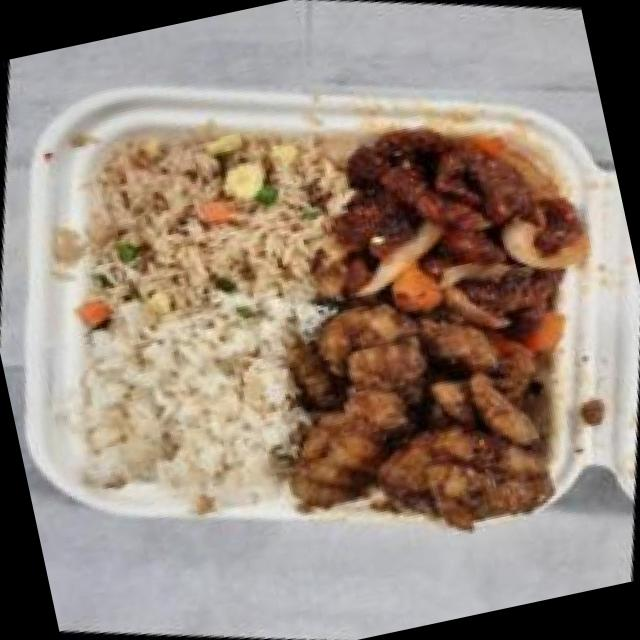Beijing Beef: (280, 70, 638, 386)
Fried Rice: (68, 82, 368, 358)
The Original Orange Chicken: (231, 242, 612, 592)
White Steamed Rice: (28, 257, 349, 548)
